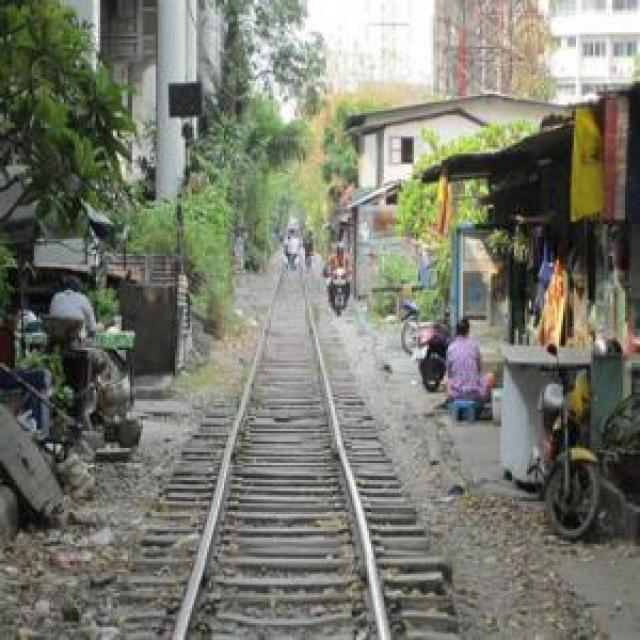rail: (104, 254, 438, 640)
